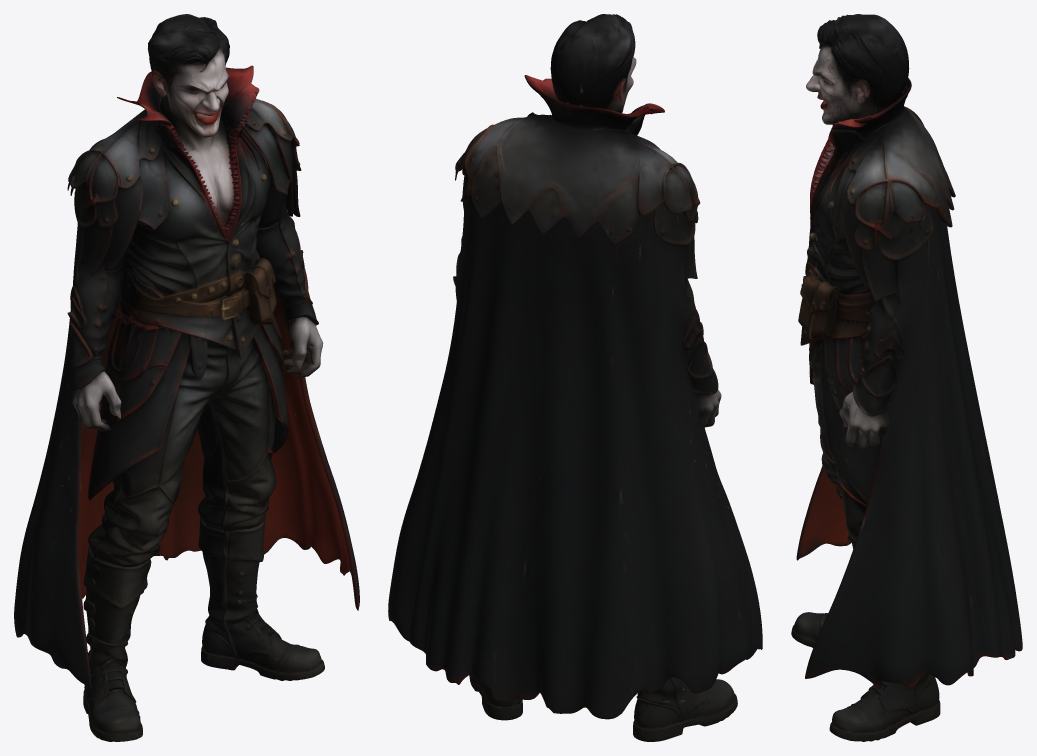
The model's file is vampire_spawn.glb.
The picture shows the model from 3 angles, left to right: view 1: azimuth 30°, elevation 25°; view 2: azimuth 150°, elevation 25°; view 3: azimuth 270°, elevation 25°; orthographic projection. The views are drawn at different scales.
Parts seen in each view (by area): view 1: material; view 2: material; view 3: material.
Boxes of the visible parts, x1=… form: material: x1=14, y1=14, x2=359, y2=741; material: x1=388, y1=14, x2=762, y2=741; material: x1=791, y1=14, x2=1022, y2=741.
Bounding box in the file's own units: 0.5491 × 1.1 × 0.3465.
Materials: 1 (1 with a texture image).
